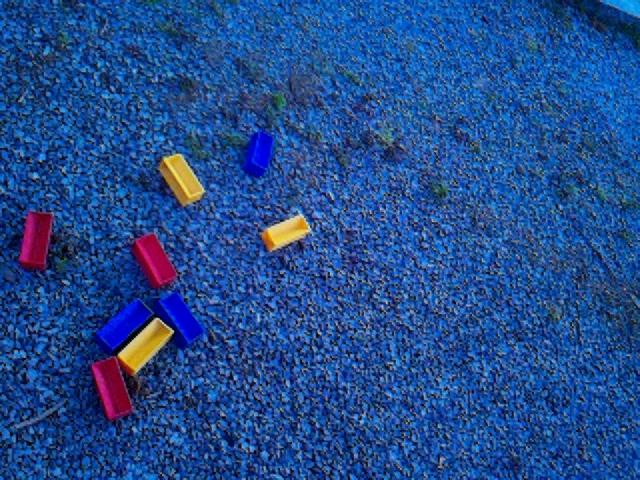blue: (95, 298, 154, 355), (153, 292, 204, 351), (243, 130, 275, 177)
red: (90, 356, 133, 421), (131, 232, 178, 289), (18, 210, 54, 272)
yellow: (116, 316, 175, 377), (159, 153, 206, 207), (261, 214, 312, 253)
